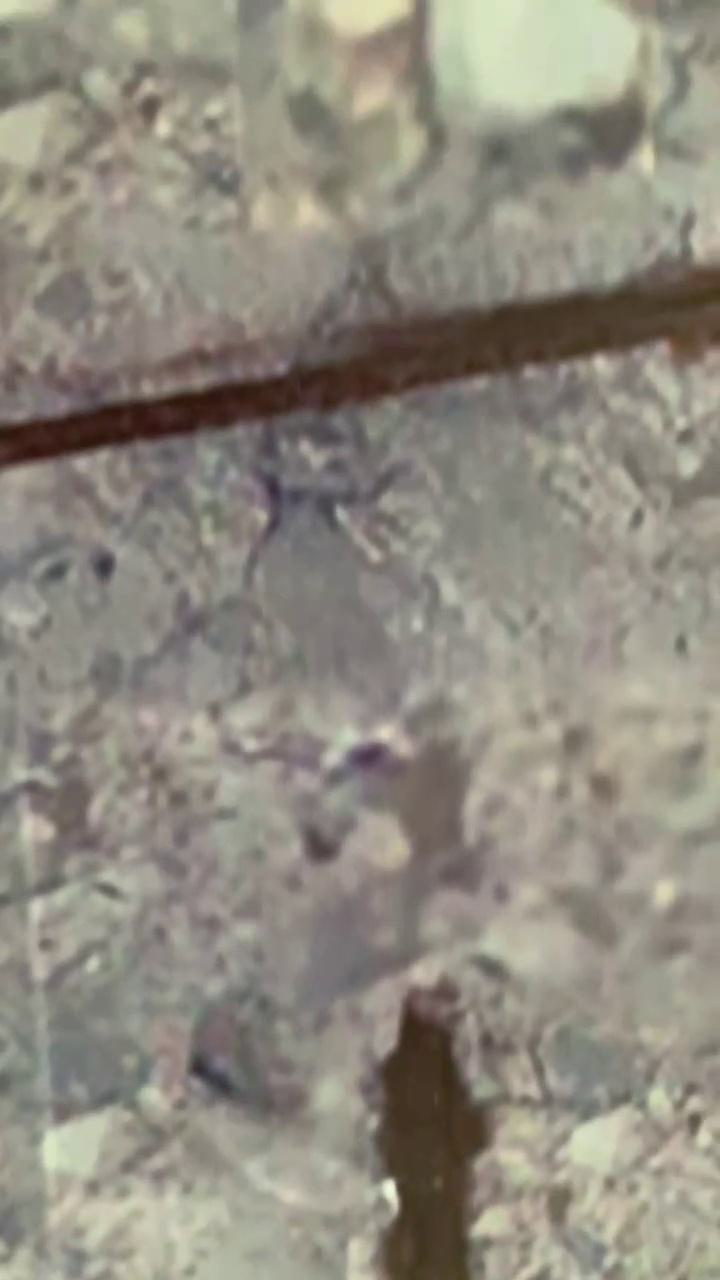Exposed reinforcement: (1, 290, 720, 473), (372, 990, 491, 1280)
